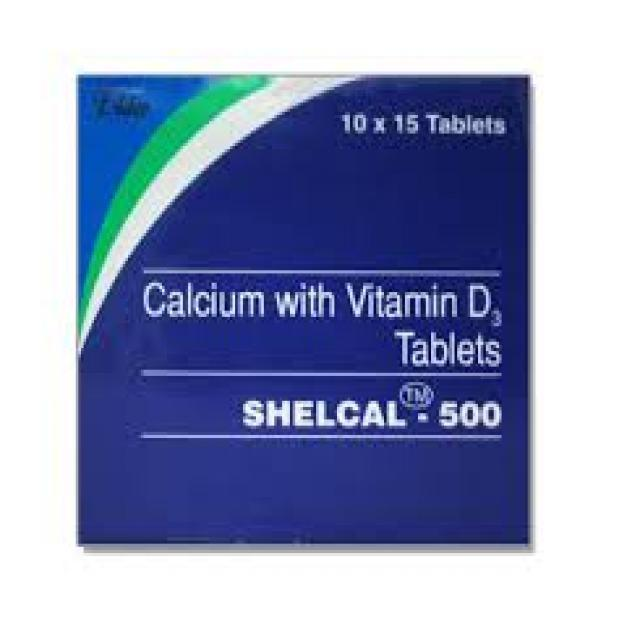authentic: (67, 59, 546, 564)
